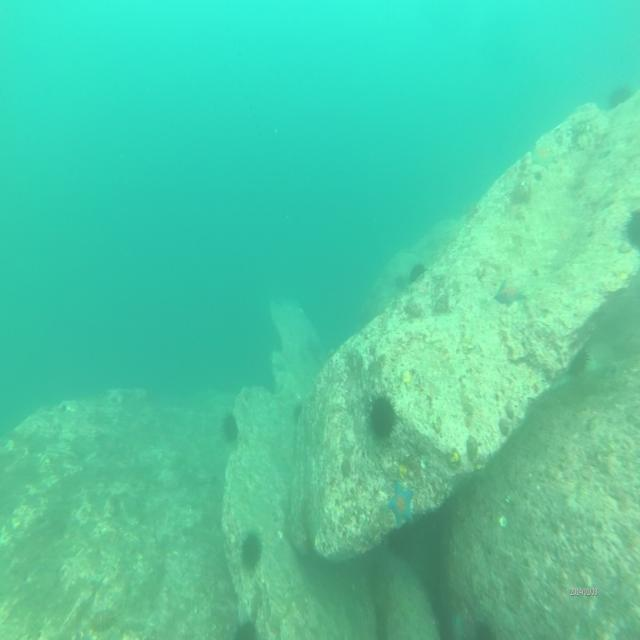echinus: (370, 395, 398, 441), (240, 529, 264, 571), (221, 411, 240, 447), (626, 211, 640, 257), (611, 87, 632, 109), (410, 261, 426, 281)
starfish: (386, 482, 416, 530), (496, 279, 524, 311)
